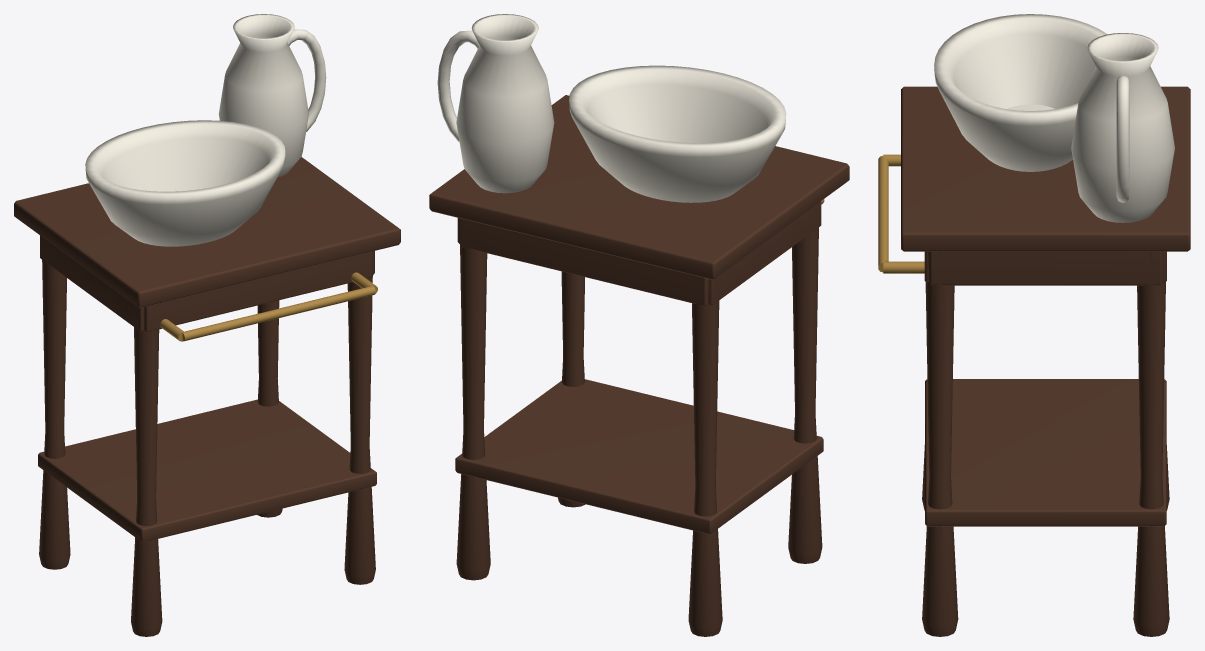
File: rpg-mansion-portable-bowl-jug-washstand-01.glb
3 renders of one model, left to right at view 1: azimuth 30°, elevation 25°; view 2: azimuth 150°, elevation 25°; view 3: azimuth 270°, elevation 25°, orthographic. The views are drawn at different scales.
Parts seen in each view (by area): view 1: rpg-mansion-portable-bowl-jug-washstand-01; view 2: rpg-mansion-portable-bowl-jug-washstand-01; view 3: rpg-mansion-portable-bowl-jug-washstand-01.
Boxes of the visible parts, left/top/right/bottom form: rpg-mansion-portable-bowl-jug-washstand-01: left=14, top=14, right=400, bottom=636; rpg-mansion-portable-bowl-jug-washstand-01: left=429, top=14, right=849, bottom=636; rpg-mansion-portable-bowl-jug-washstand-01: left=878, top=14, right=1190, bottom=636.
Size of the model in its own units: 0.624 by 1.05 by 0.5176.
